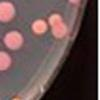pink: (2, 30, 23, 49), (0, 1, 16, 23), (31, 18, 47, 35), (50, 23, 67, 38), (0, 51, 12, 72), (46, 11, 62, 25), (68, 0, 82, 6)
